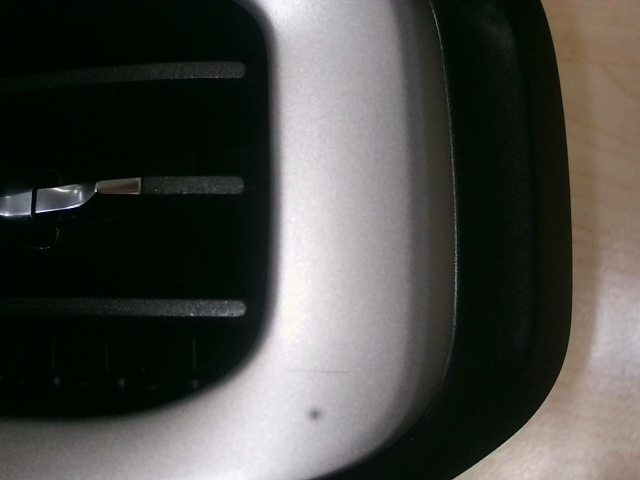NG: (295, 357, 375, 386)
